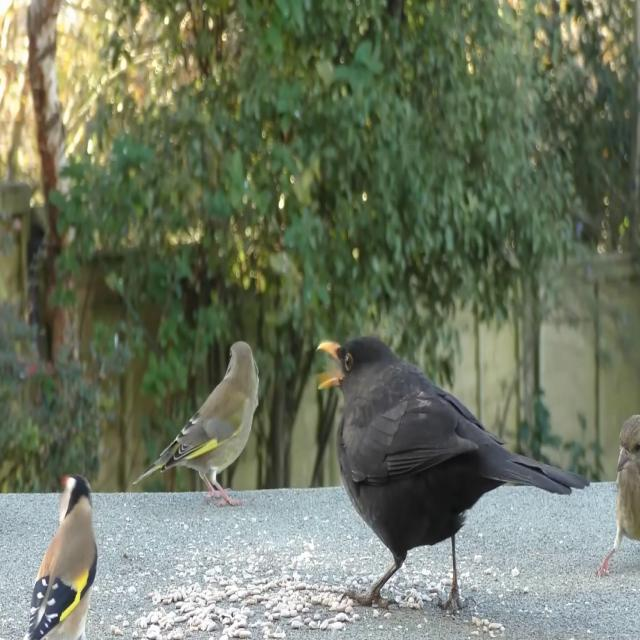beak: (316, 336, 344, 398), (615, 448, 629, 481)
bird: (313, 326, 574, 611), (127, 336, 261, 515), (22, 471, 104, 640), (598, 413, 640, 584)
